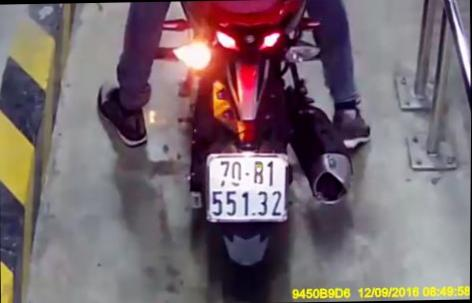LP: (205, 152, 287, 223)
